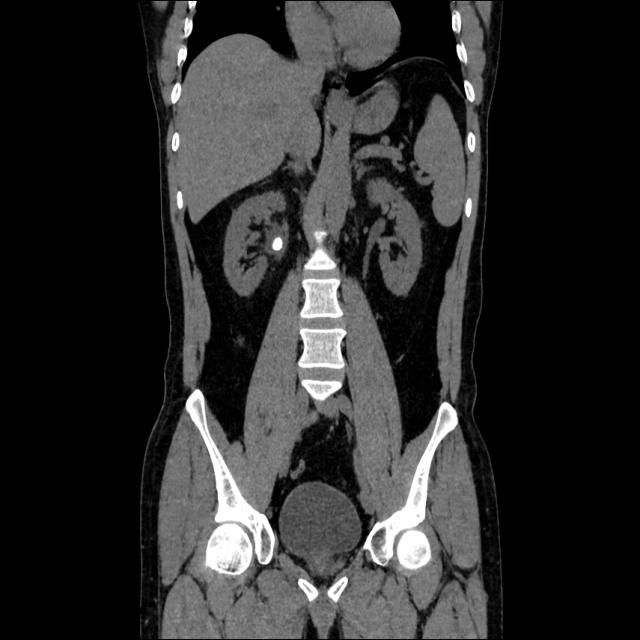kidneystone: (272, 238, 284, 250)
